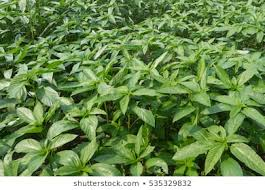jute: (1, 9, 262, 175)
